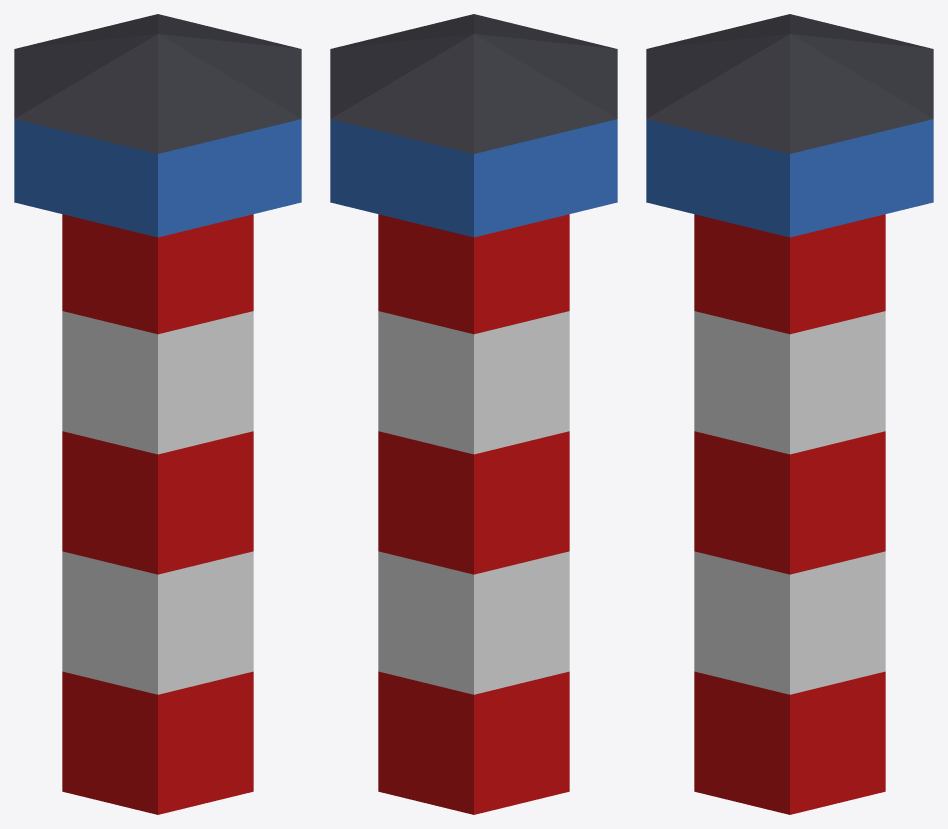
Rendered from Twr1.obj.
3 views of the same model, side by side, from view 1: azimuth 30°, elevation 25°; view 2: azimuth 150°, elevation 25°; view 3: azimuth 270°, elevation 25° (orthographic).
Visible parts, largest first — view 1: twr; view 2: twr; view 3: twr.
Part boxes in pixels (bbox=[...]): twr: bbox=[14, 14, 301, 814]; twr: bbox=[330, 14, 617, 814]; twr: bbox=[646, 14, 933, 814].
Bounding box in the file's own units: 9 × 22 × 7.79.
